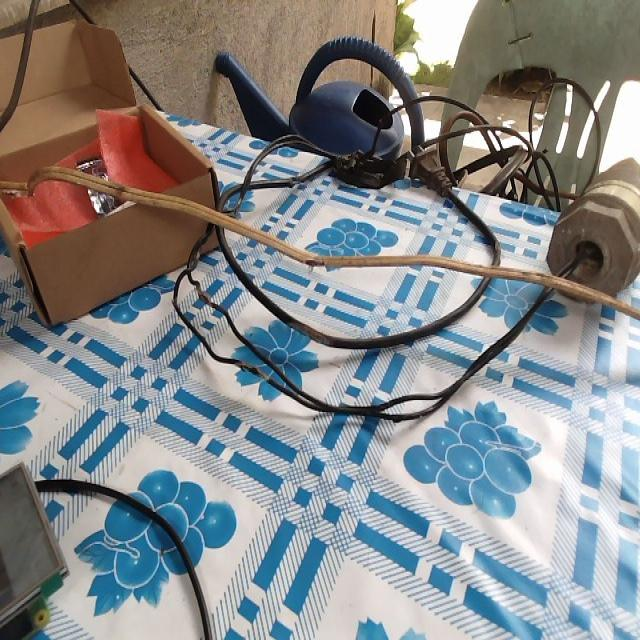-: (288, 316, 331, 344), (237, 359, 270, 381), (195, 284, 210, 308), (306, 256, 324, 271)
